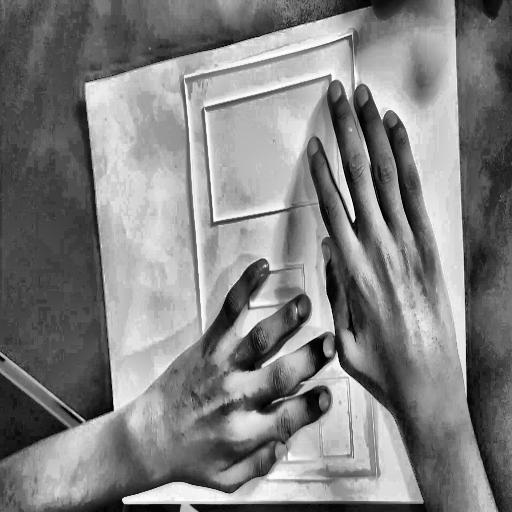bottom_left: (120, 496, 126, 507)
bottom_right: (464, 490, 473, 503)
door: (176, 23, 388, 496)
top_left: (83, 78, 90, 90)
